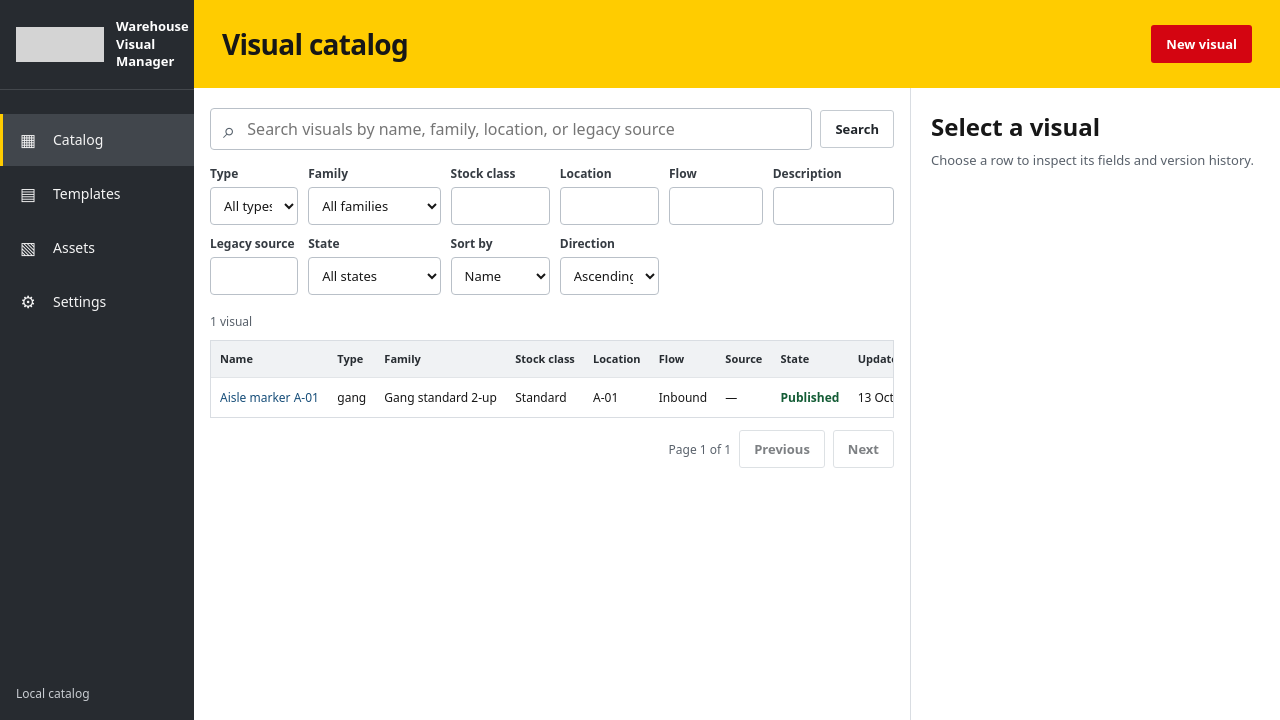
Test: CatalogApp › ignores stale catalog responses when filters change before a request completes
Check: the row "Aisle marker A-01" is shown, box [211,377,894,417]
Type "STALE" into the field labelled "Location" at [609, 206], box [560,187,659,225]
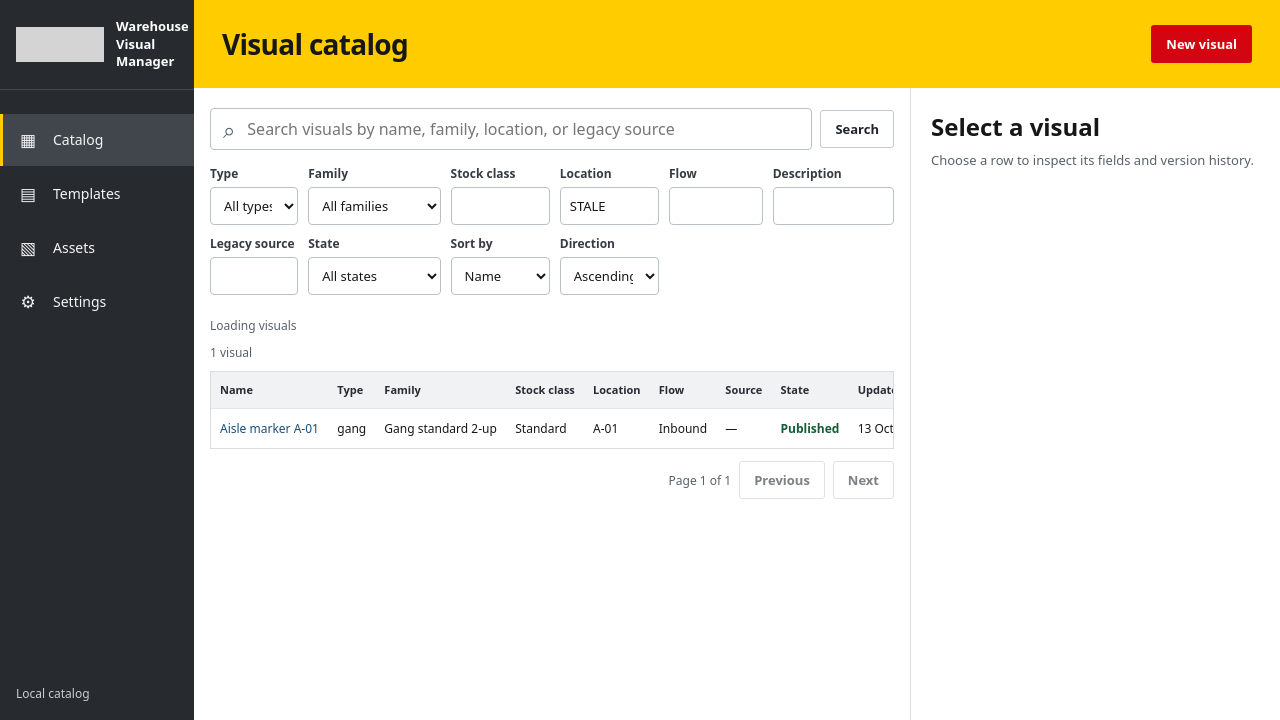
Replace the text in the field labelled "Location" with "CURRENT" at [609, 206], box [560,187,659,225]
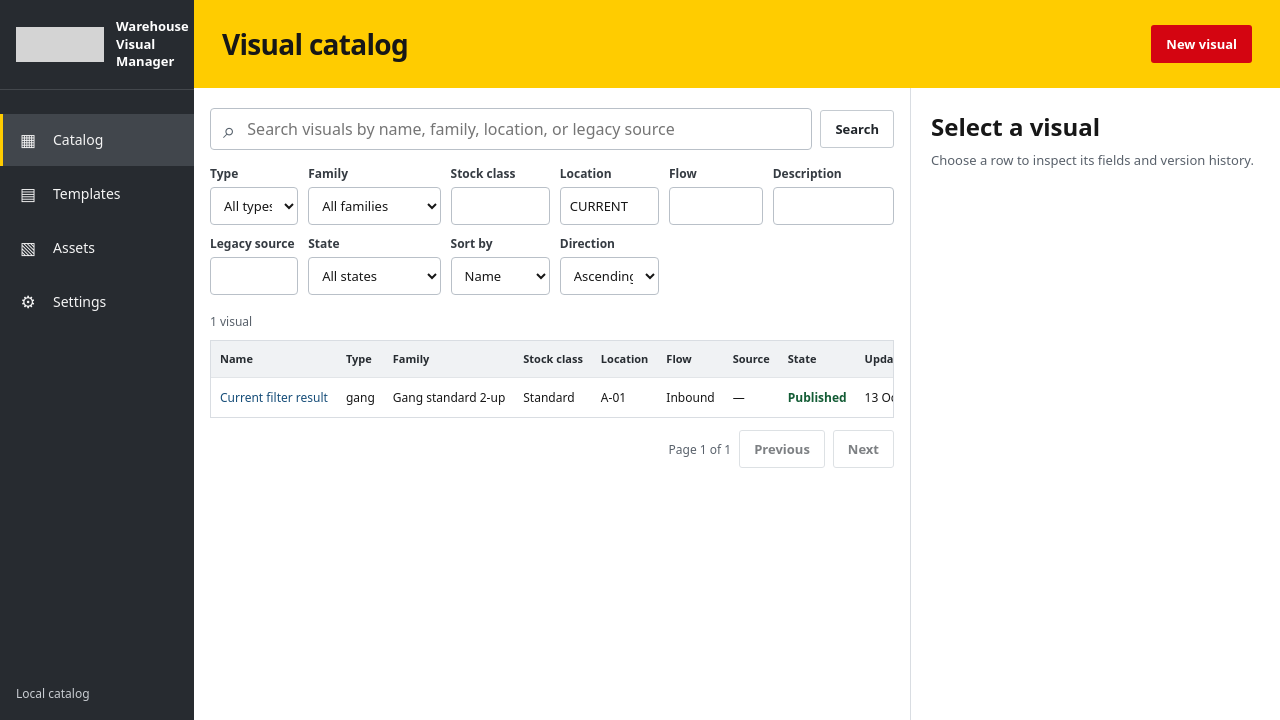
Check: the row "Current filter result" is shown, box [211,377,894,417]
